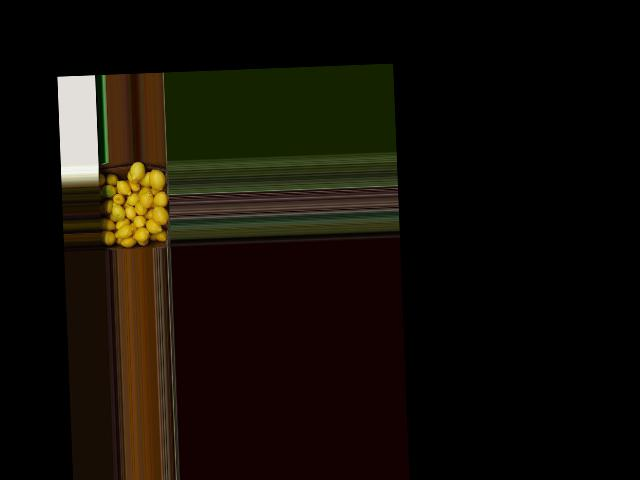lemon: (125, 194, 138, 205)
